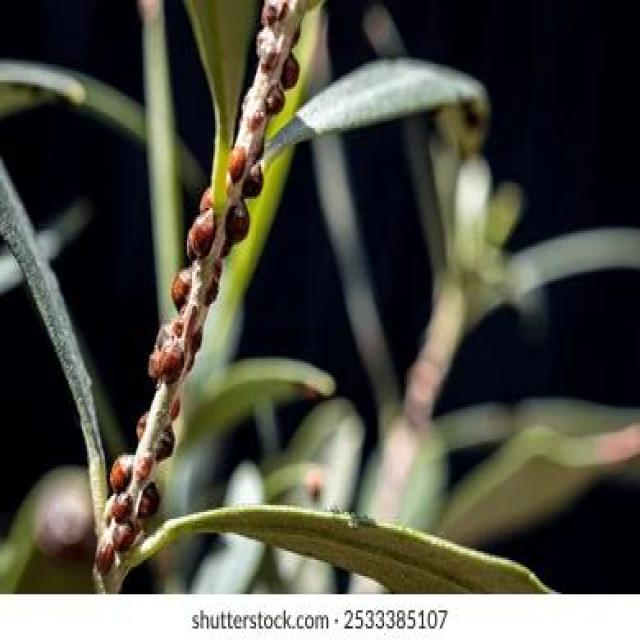Black Scale: (94, 0, 323, 590)
